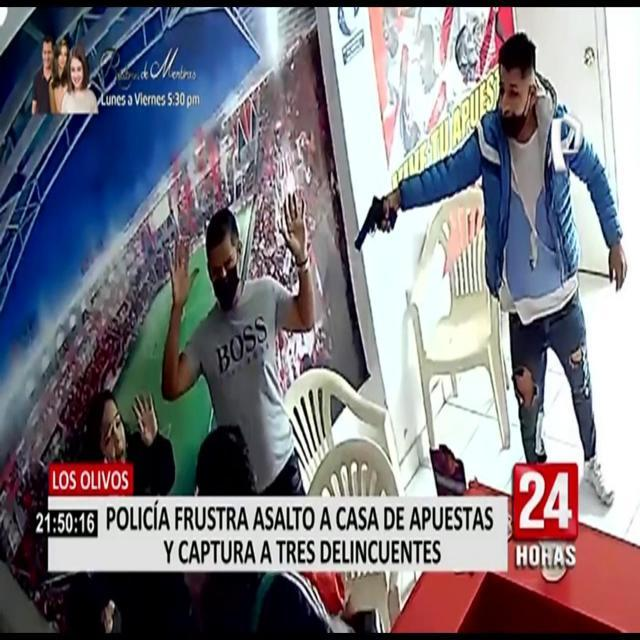weapon: (352, 168, 399, 270)
